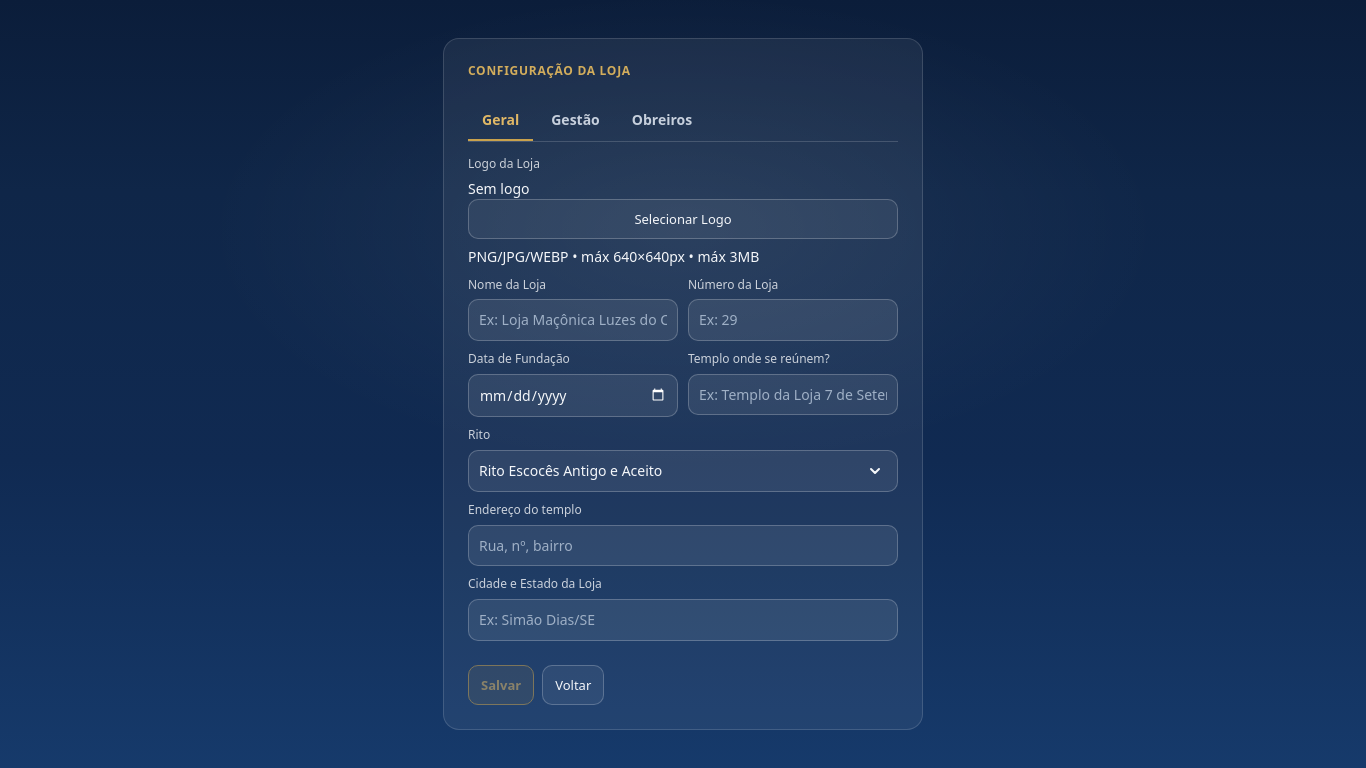
Test: LojaConfigScreen - Gestão › cadastra a gestao e atualiza a listagem ao fechar o modal
Click the tab "Gestão".
click(576, 120)  # box [537, 100, 614, 141]
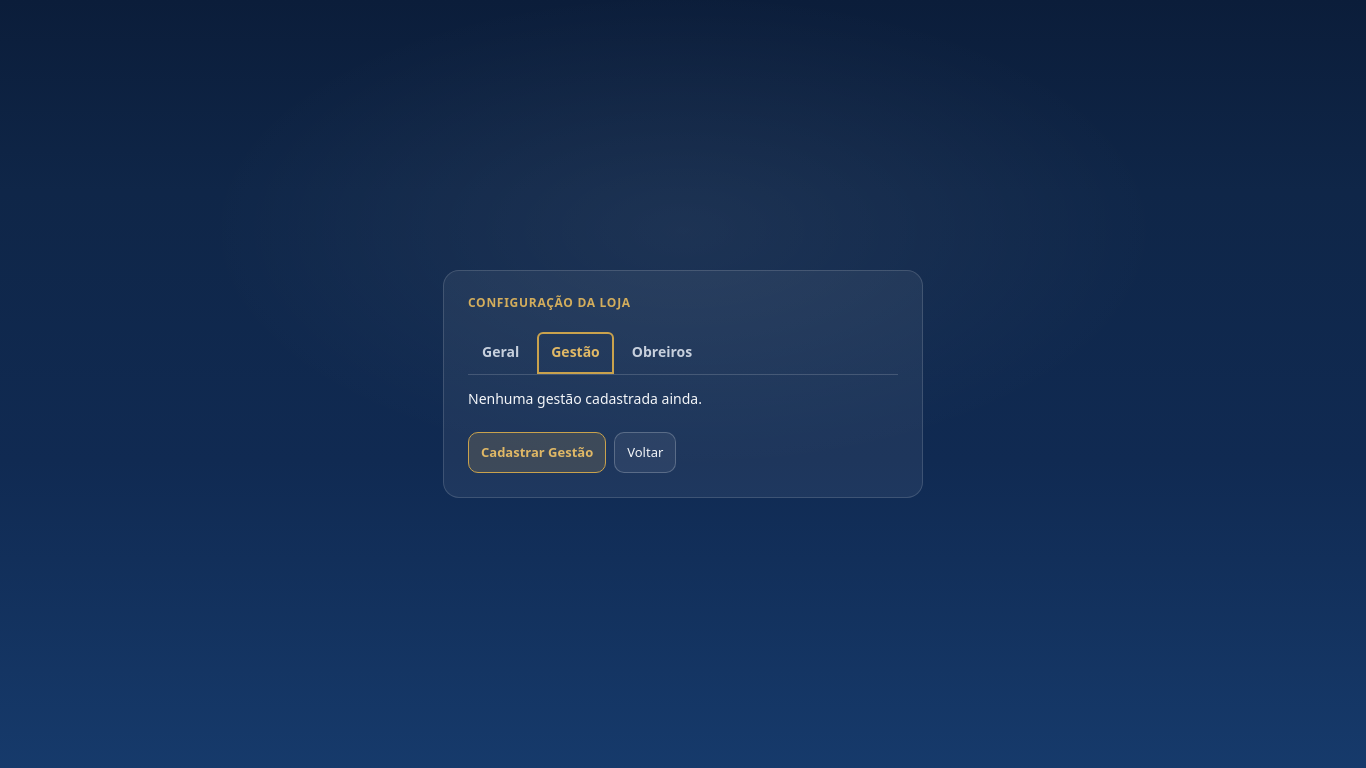
Expected: the text "Nenhuma gestão cadastrada ainda." is shown, [468, 389, 702, 408]
Click the button "Cadastrar Gestão".
click(537, 452)  # box [468, 432, 606, 473]
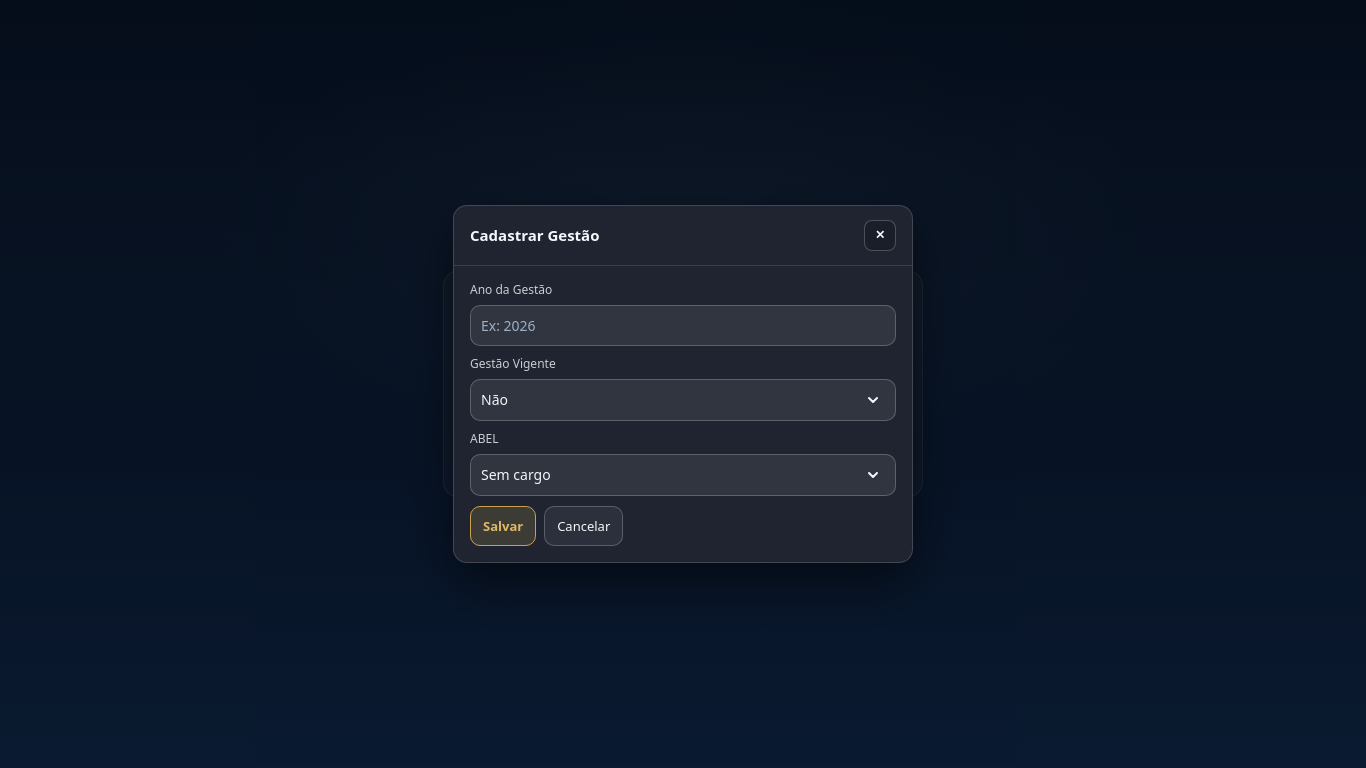
Type "2026" into the field labelled "Ano da Gestão".
click(683, 325); type("2026")  # box [470, 305, 896, 346]
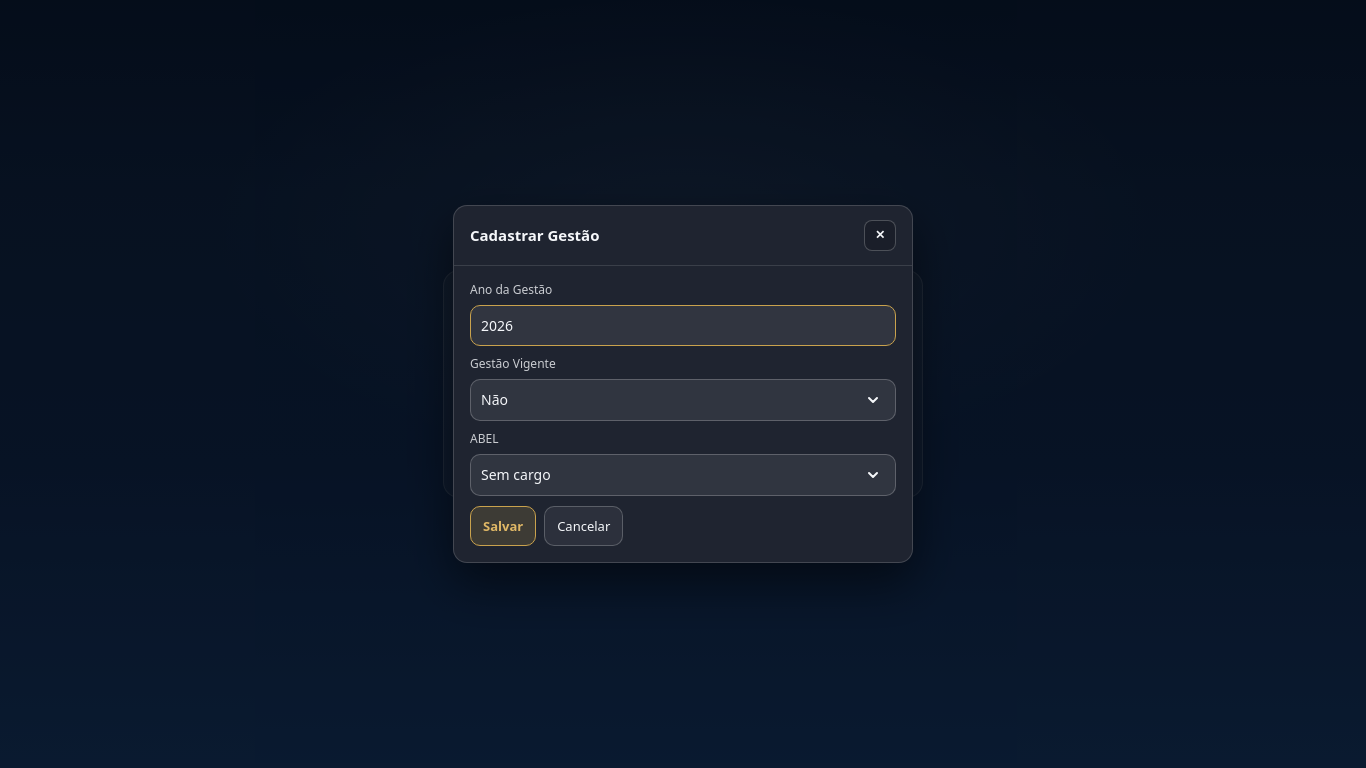
Select "V∴M∴ — Venerável Mestre" in the dropdown labelled "ABEL" at [683, 475], box [470, 454, 896, 496]
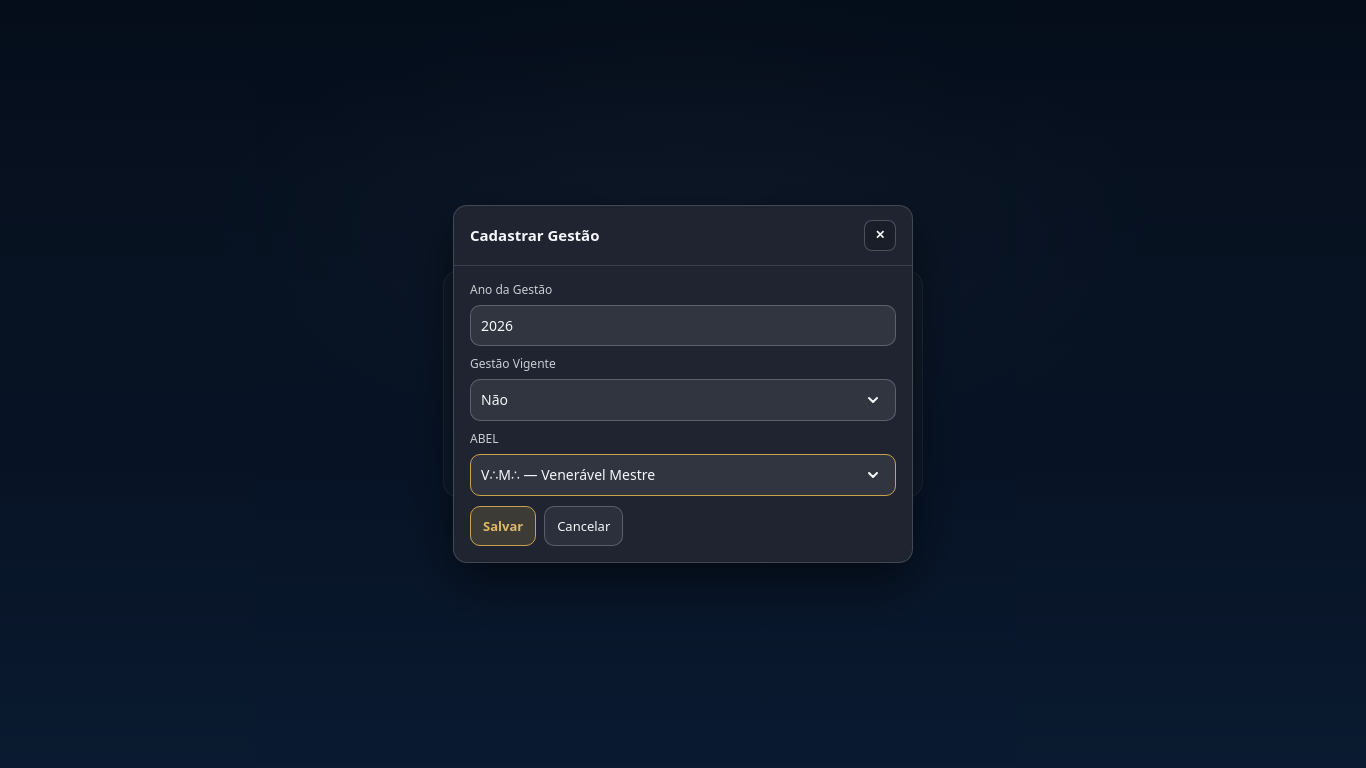
Click the button "Salvar".
click(503, 526)  # box [470, 506, 536, 546]
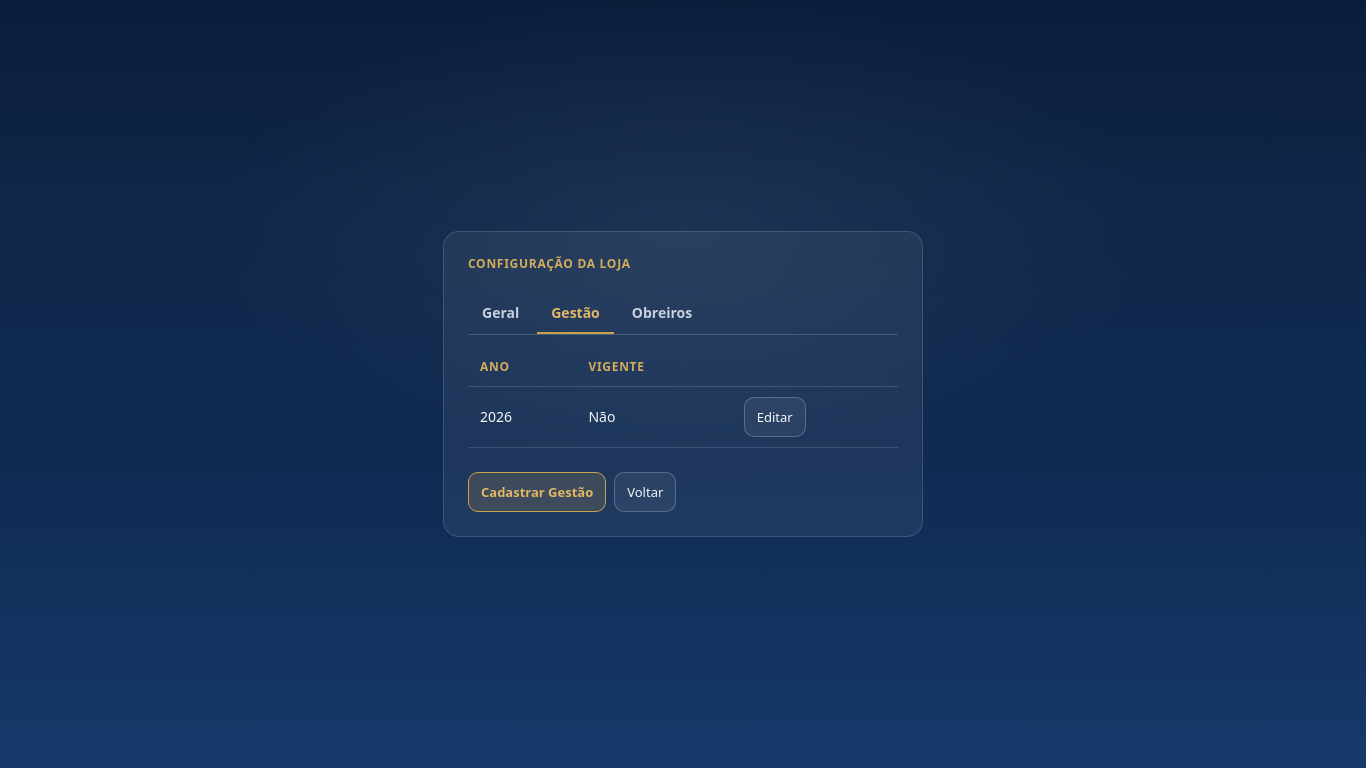
Expected: the dialog is gone
Expected: the cell "2026" is shown, [468, 386, 576, 448]
